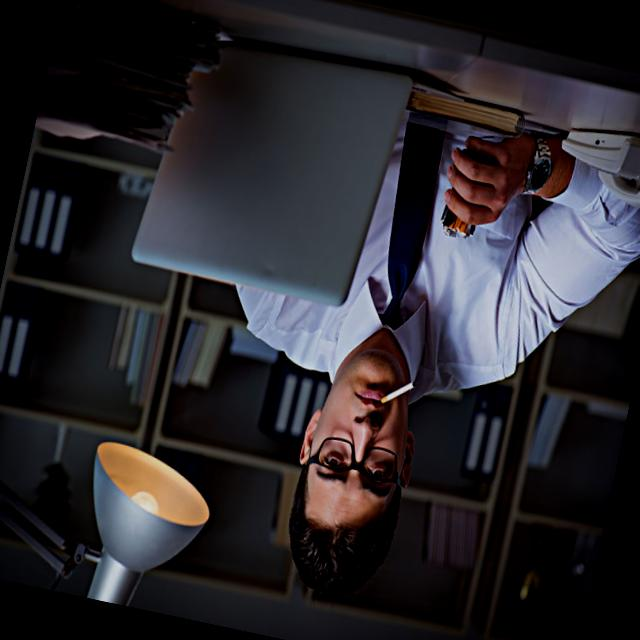cigarette: (380, 371, 420, 411)
